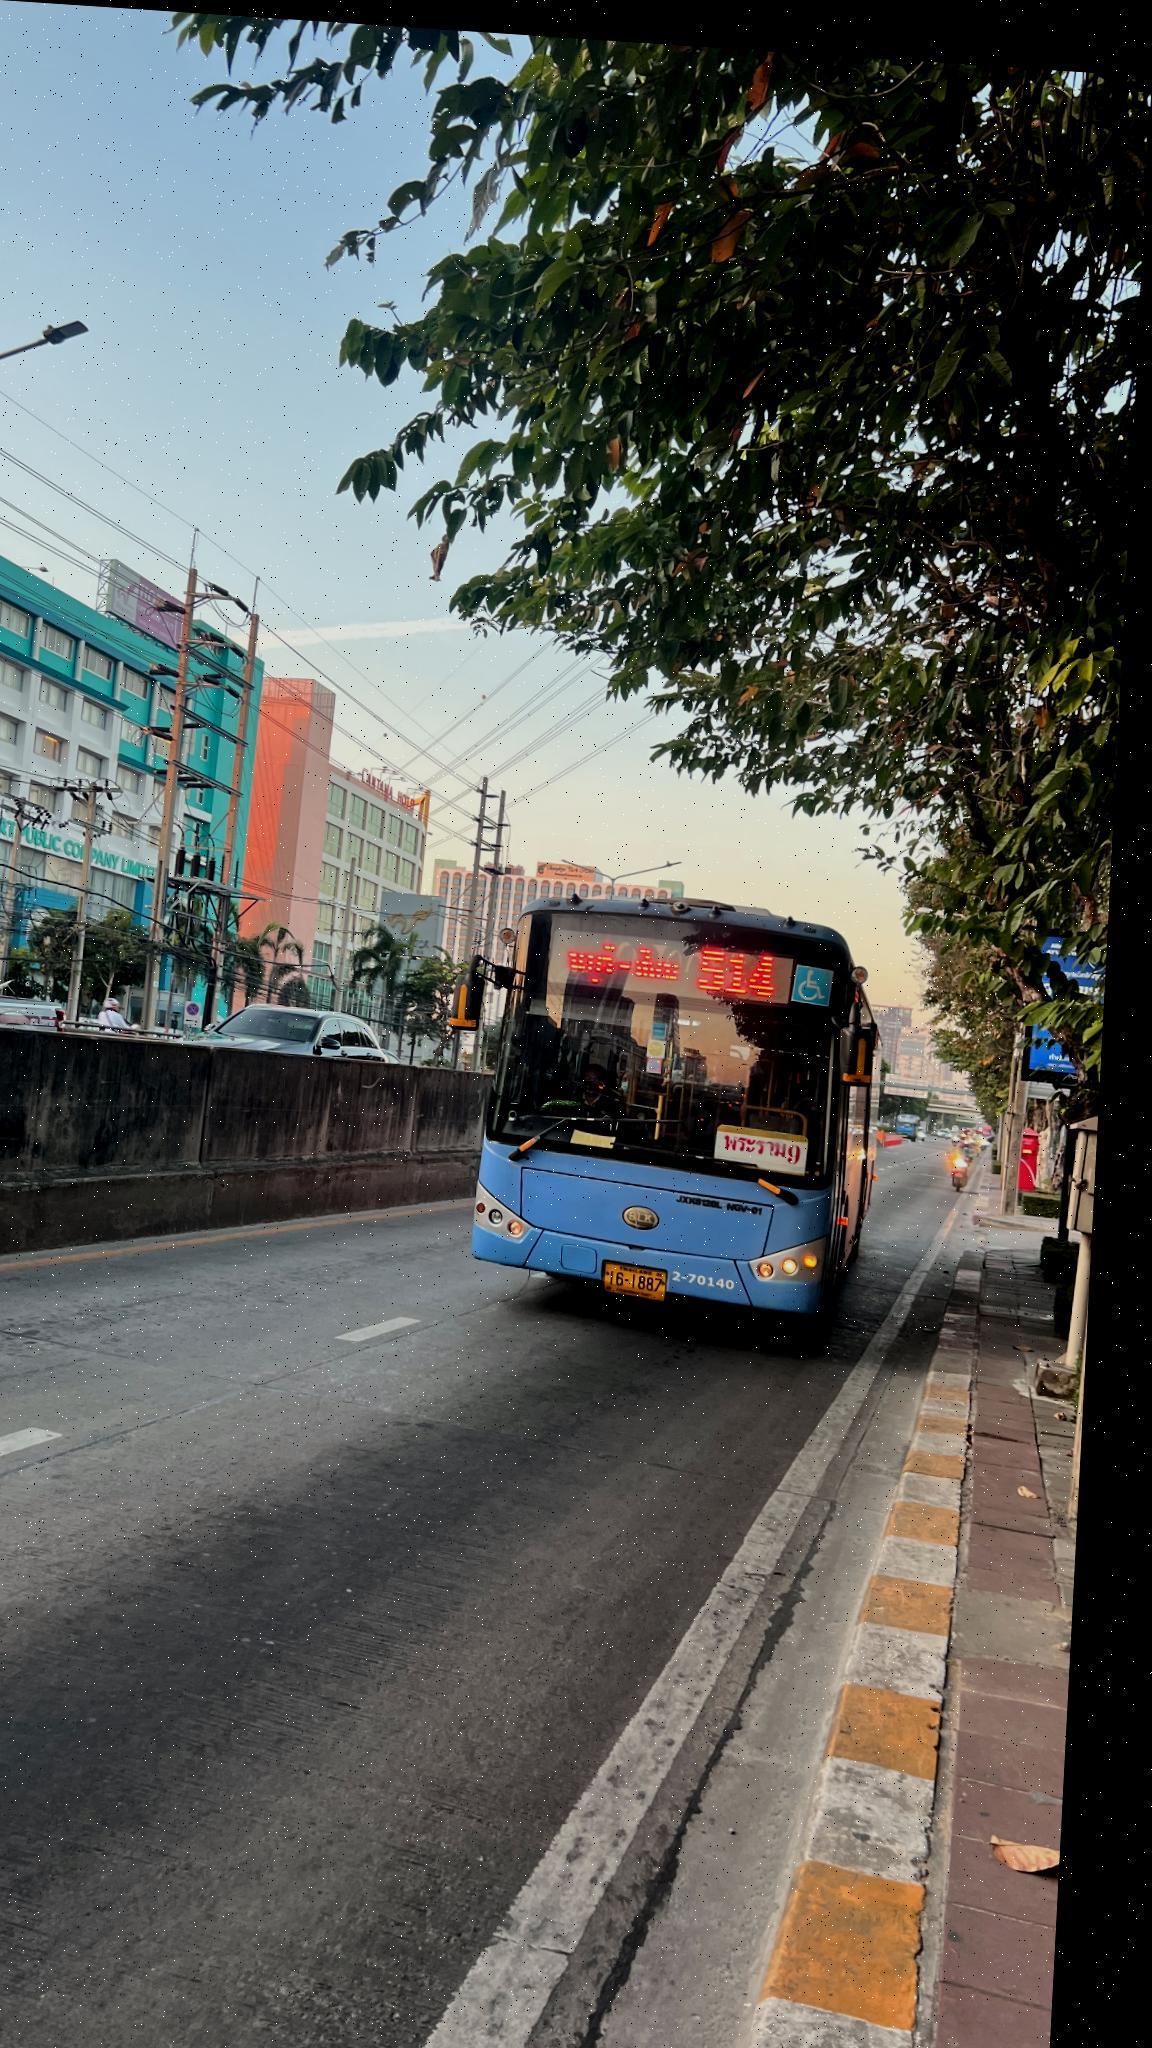BMTA-bus: (484, 889, 889, 1319)
Bus Line Number: (699, 927, 796, 994)
Bus Side Number: (685, 1252, 754, 1281)
Destination Sign: (729, 1121, 819, 1162)
